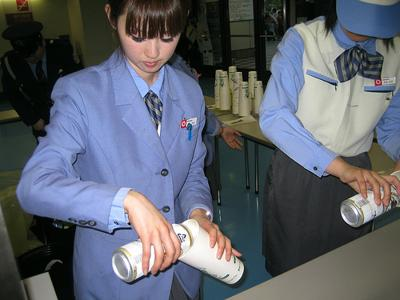person: (16, 2, 243, 300)
